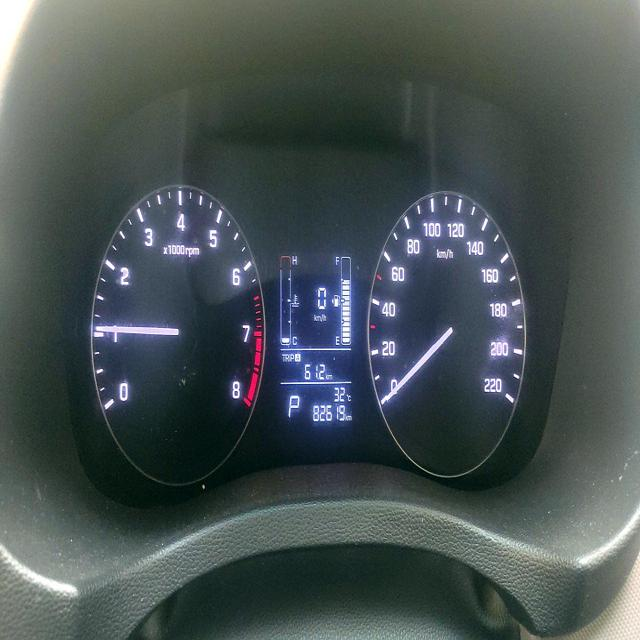odometer: (312, 402, 346, 424)
